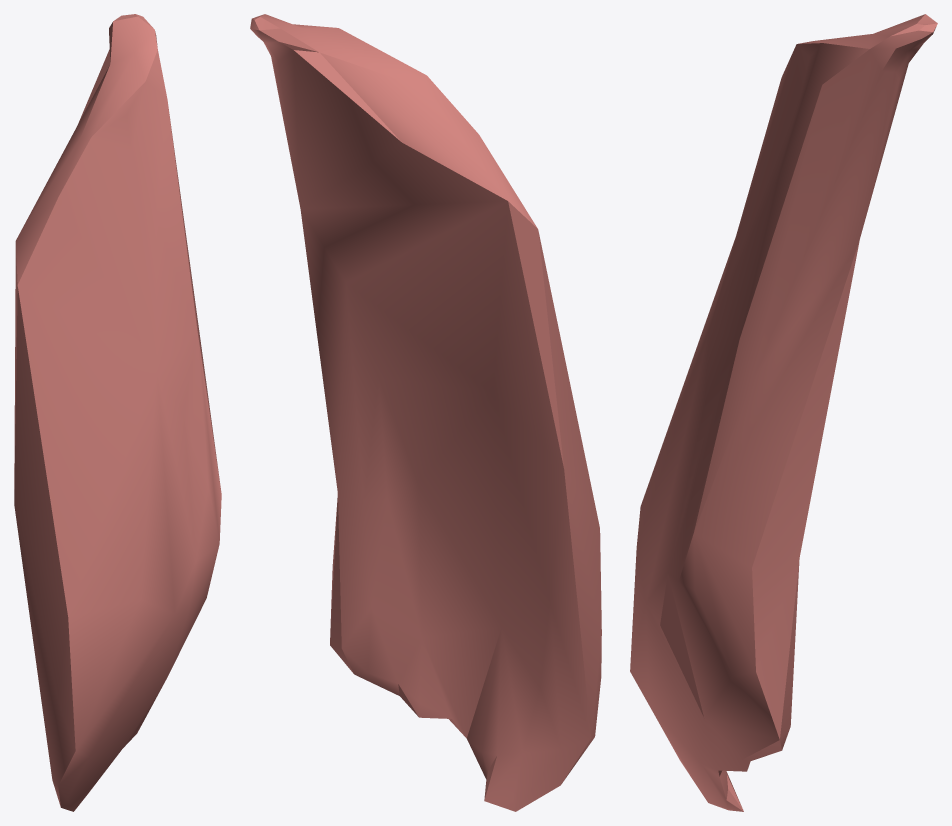
File: fma81543_mm1322m.glb
The picture shows the model from 3 angles, left to right: view 1: azimuth 30°, elevation 25°; view 2: azimuth 150°, elevation 25°; view 3: azimuth 270°, elevation 25°; orthographic projection. The views are drawn at different scales.
Visible parts, largest first — view 1: FMA81543_MM1322M; view 2: FMA81543_MM1322M; view 3: FMA81543_MM1322M.
Boxes of the visible parts, left/top/right/bottom form: FMA81543_MM1322M: left=14, top=14, right=221, bottom=811; FMA81543_MM1322M: left=250, top=14, right=601, bottom=811; FMA81543_MM1322M: left=630, top=14, right=937, bottom=811.
Size of the model in its own units: 0.00552 by 0.0183 by 0.00585.
